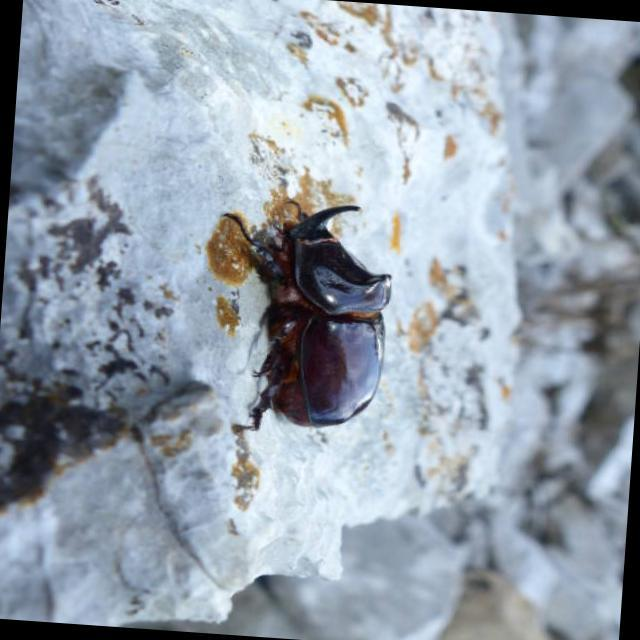Rhino-beetle: (212, 183, 406, 445)
